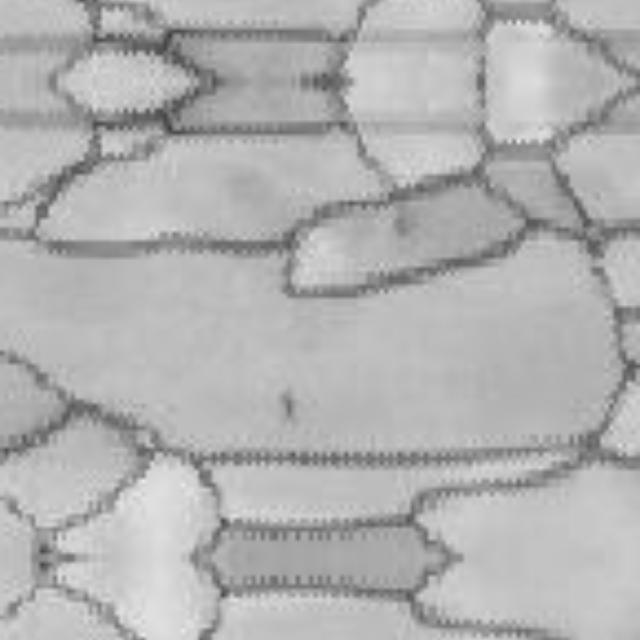good_void: (281, 389, 298, 424)
